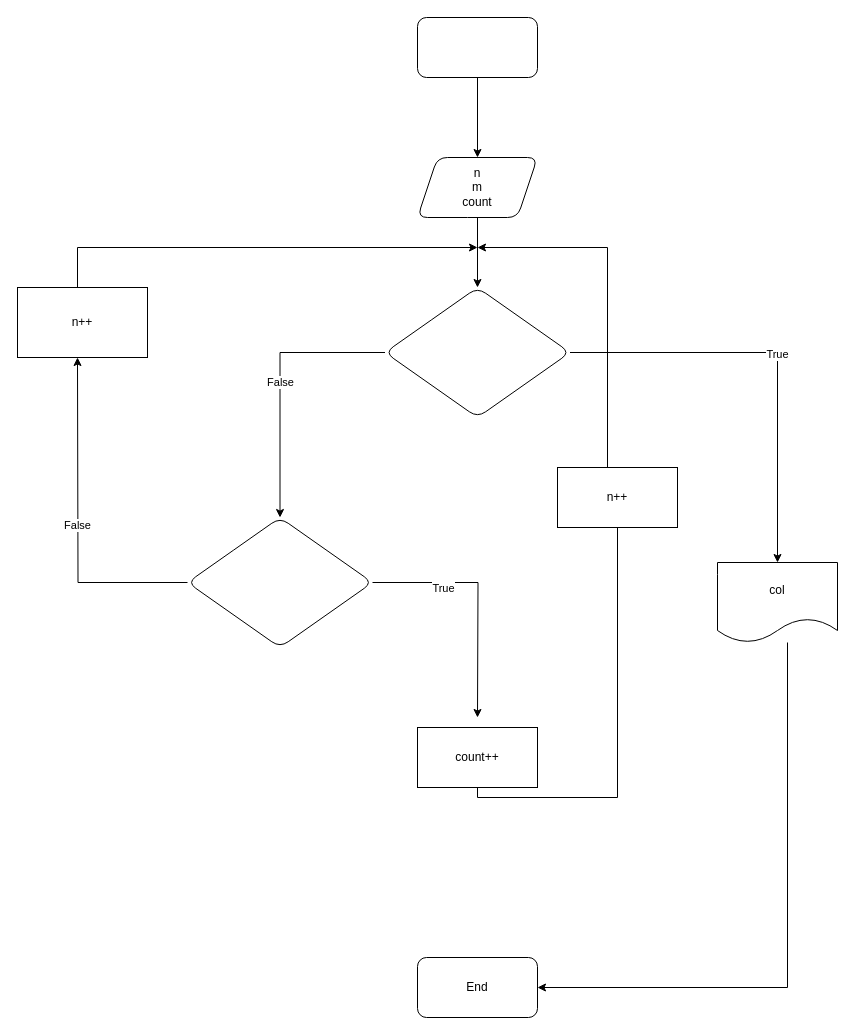
Image size: 855x1035. Some labels were removed from this diagram. The shapes that lost their labels are listed below. From the top down, each one's box as (x1, y1, x2, y2) in pixels, then its label:
(416, 16, 538, 78): Start
(384, 286, 570, 418): n=m
(186, 516, 372, 648): n%2==1
